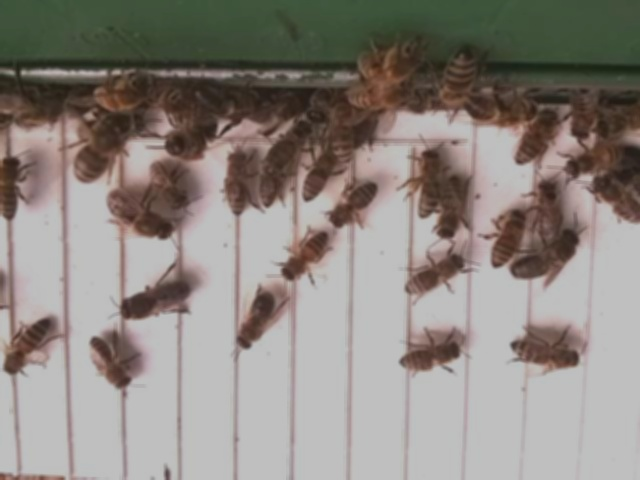Drone: (70, 111, 128, 185), (509, 229, 579, 284), (118, 281, 193, 323), (234, 289, 278, 353)
Worker: (103, 189, 174, 241), (2, 317, 54, 378), (402, 251, 465, 298), (265, 118, 314, 172), (282, 232, 330, 285), (506, 339, 583, 372), (86, 336, 132, 391), (397, 338, 463, 376), (329, 181, 379, 229), (514, 114, 557, 169), (413, 148, 445, 220), (563, 143, 622, 180), (489, 210, 525, 270), (434, 176, 466, 243), (327, 97, 358, 166), (221, 150, 250, 221), (146, 161, 186, 210), (446, 48, 475, 112), (535, 178, 563, 241), (0, 157, 26, 220), (302, 153, 333, 205), (258, 161, 281, 211)
